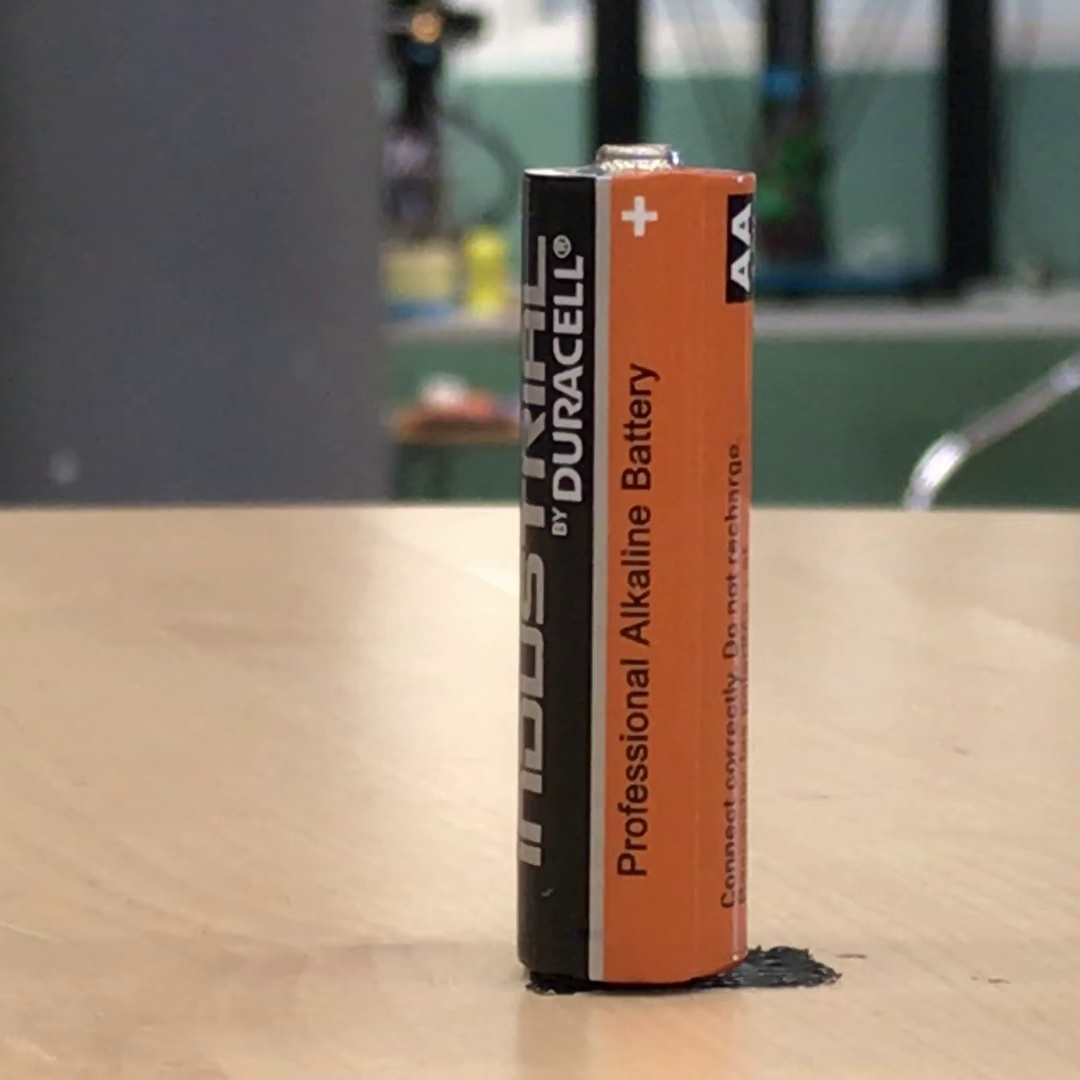keyword: (610, 601, 660, 656)
